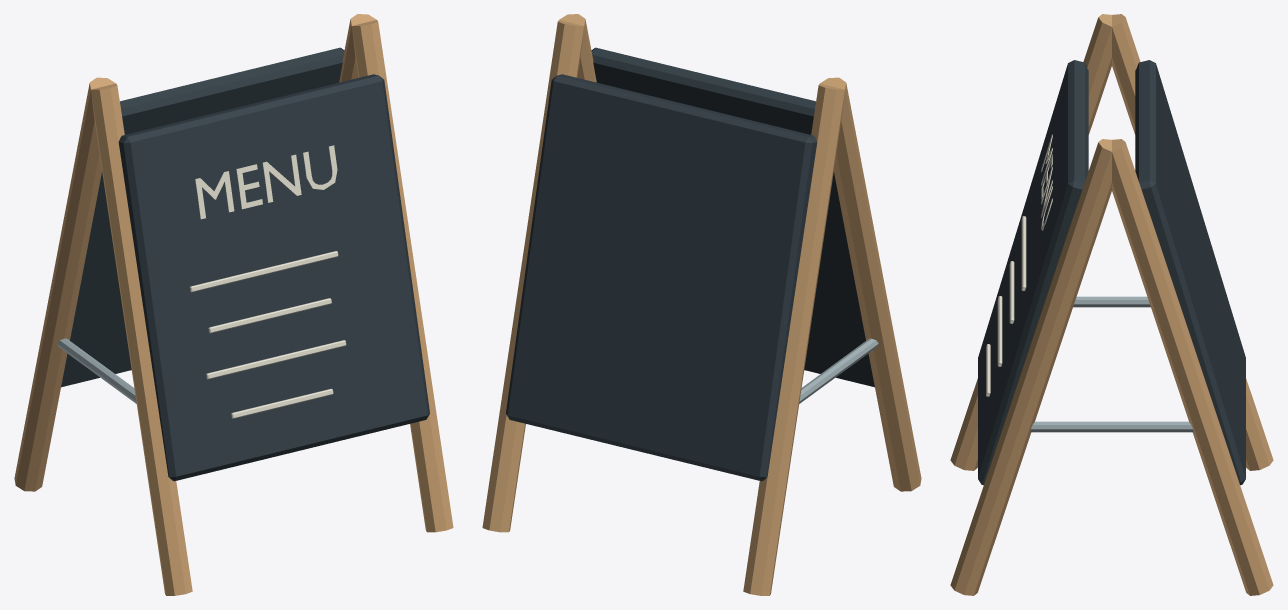
File: Menu_Board.glb
3 renders of one model, left to right at view 1: azimuth 30°, elevation 25°; view 2: azimuth 150°, elevation 25°; view 3: azimuth 270°, elevation 25°, orthographic.
Visible parts, largest first — view 1: Menu_Board; view 2: Menu_Board; view 3: Menu_Board.
Part boxes in pixels (<box>): Menu_Board: <box>14,14,453,595</box>; Menu_Board: <box>482,14,921,595</box>; Menu_Board: <box>950,14,1273,595</box>.
Size of the model in its own units: 0.68 by 1.04 by 0.6774.
